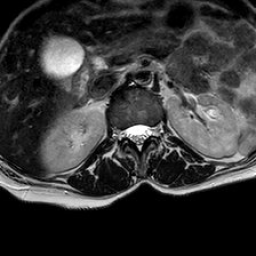CCS_normal: (133, 115, 142, 157)
LFS_normal: (150, 116, 158, 145)
LLS_normal: (142, 116, 150, 146)
RFS_normal: (114, 117, 123, 146)
RLS_normal: (123, 116, 133, 146)
